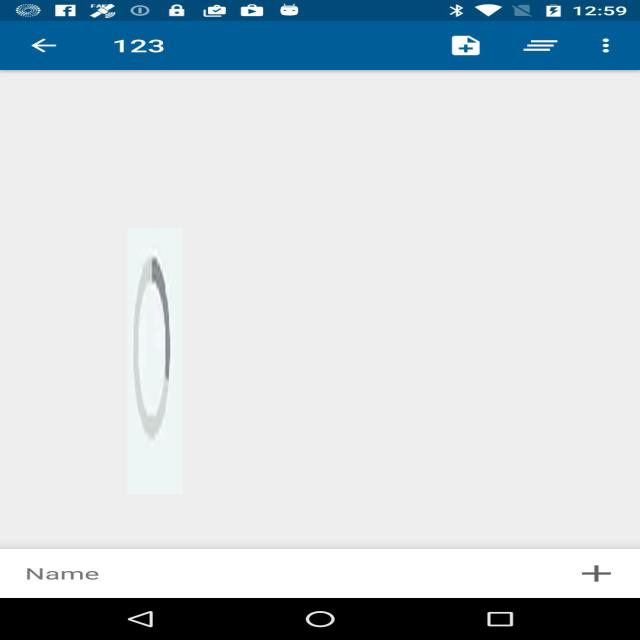misdirection: (128, 228, 182, 494)
